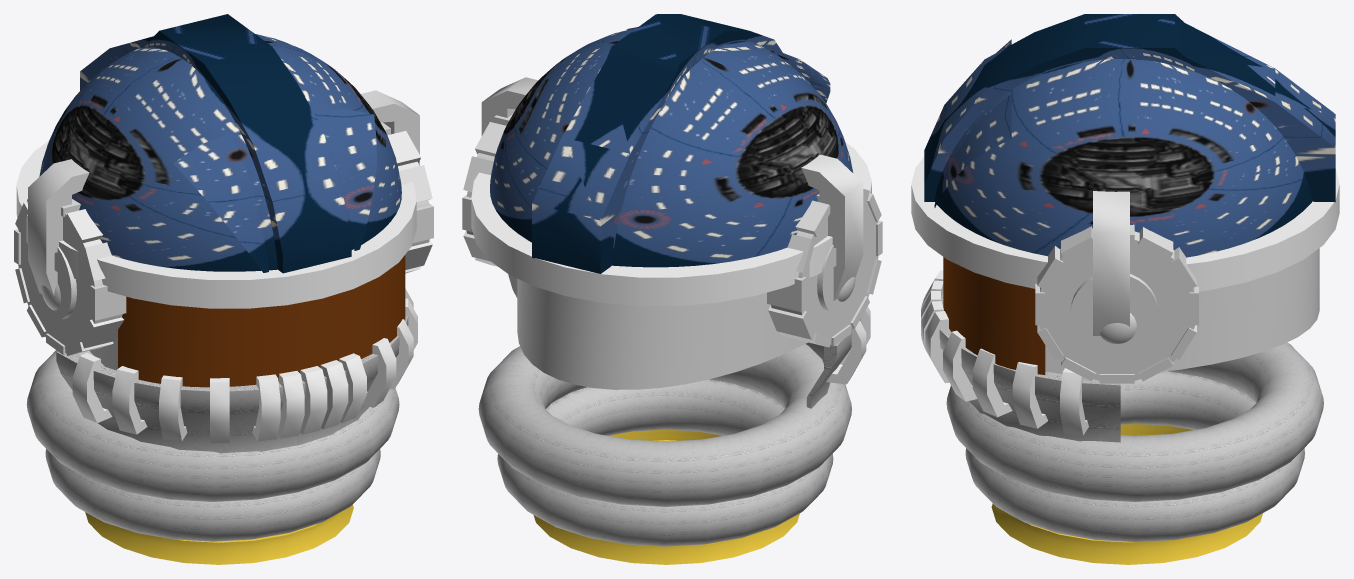
Rendered from Space Helmet Shape.dae.
The picture shows the model from 3 angles, left to right: view 1: azimuth 30°, elevation 25°; view 2: azimuth 150°, elevation 25°; view 3: azimuth 270°, elevation 25°; orthographic projection.
Parts seen in each view (by area): view 1: Polygon_Mesh (×10); view 2: Polygon_Mesh (×10); view 3: Polygon_Mesh (×10).
Boxes of the visible parts, left/top/right/bottom form: Polygon_Mesh (×10): left=14, top=14, right=433, bottom=564; Polygon_Mesh (×10): left=462, top=14, right=882, bottom=564; Polygon_Mesh (×10): left=911, top=14, right=1339, bottom=564.
Bounding box in the file's own units: 172 × 209 × 171.
